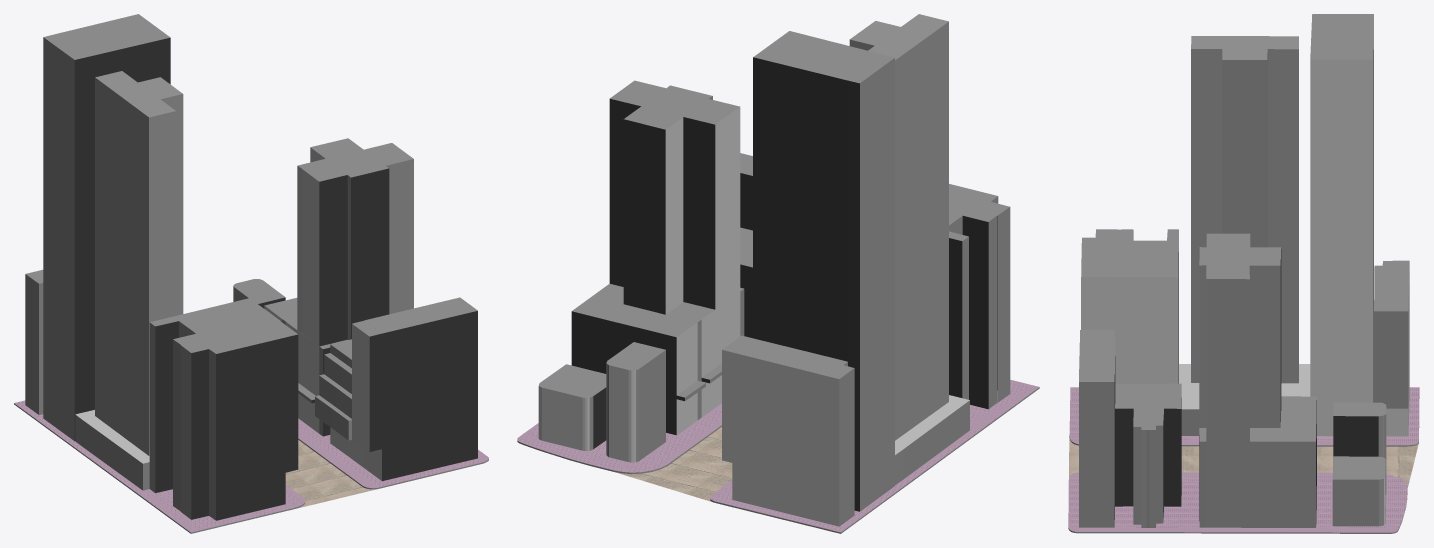
3 renders of one model, left to right at view 1: azimuth 30°, elevation 25°; view 2: azimuth 150°, elevation 25°; view 3: azimuth 270°, elevation 25°, orthographic. The views are drawn at different scales.
Visible parts, largest first — view 1: Mesh14 Model, Mesh9 skpAE5E1 Model, Mesh2 skpAE5E1 Model, Mesh12 skpAE5E1 Model, Mesh1 skpAE5E1 Model, Mesh7 skpAE5E1 Model, Mesh10 skpAE5E1 Model; view 2: Mesh2 skpAE5E1 Model, Mesh12 skpAE5E1 Model, Mesh14 Model, Mesh7 skpAE5E1 Model, Mesh9 skpAE5E1 Model, Mesh10 skpAE5E1 Model, Mesh11 skpAE5E1 Model, Mesh1 skpAE5E1 Model; view 3: Mesh14 Model, Mesh12 skpAE5E1 Model, Mesh2 skpAE5E1 Model, Mesh1 skpAE5E1 Model, Mesh9 skpAE5E1 Model, Mesh7 skpAE5E1 Model, Mesh11 skpAE5E1 Model, Mesh10 skpAE5E1 Model.
Boxes of the visible parts, box(x1,y1,x2,y2) form: Mesh14 Model: box(14, 71, 488, 533); Mesh9 skpAE5E1 Model: box(75, 298, 298, 520); Mesh2 skpAE5E1 Model: box(43, 14, 170, 441); Mesh12 skpAE5E1 Model: box(264, 138, 413, 436); Mesh1 skpAE5E1 Model: box(315, 297, 477, 481); Mesh7 skpAE5E1 Model: box(25, 270, 43, 414); Mesh10 skpAE5E1 Model: box(233, 279, 285, 308); Mesh2 skpAE5E1 Model: box(753, 31, 894, 511); Mesh12 skpAE5E1 Model: box(571, 80, 744, 435); Mesh14 Model: box(517, 14, 1039, 533); Mesh7 skpAE5E1 Model: box(722, 335, 854, 526); Mesh9 skpAE5E1 Model: box(895, 184, 1010, 485); Mesh10 skpAE5E1 Model: box(606, 342, 665, 462); Mesh11 skpAE5E1 Model: box(538, 364, 606, 450); Mesh1 skpAE5E1 Model: box(740, 153, 752, 338); Mesh14 Model: box(1068, 36, 1419, 533); Mesh12 skpAE5E1 Model: box(1199, 233, 1316, 527); Mesh2 skpAE5E1 Model: box(1310, 14, 1373, 435); Mesh1 skpAE5E1 Model: box(1079, 330, 1181, 527); Mesh9 skpAE5E1 Model: box(1081, 229, 1310, 435); Mesh7 skpAE5E1 Model: box(1374, 260, 1409, 436); Mesh11 skpAE5E1 Model: box(1332, 456, 1385, 526); Mesh10 skpAE5E1 Model: box(1333, 402, 1386, 494).
Size of the model in its own units: 48.16 by 58.5 by 49.16.
9 materials, 2 textured.
